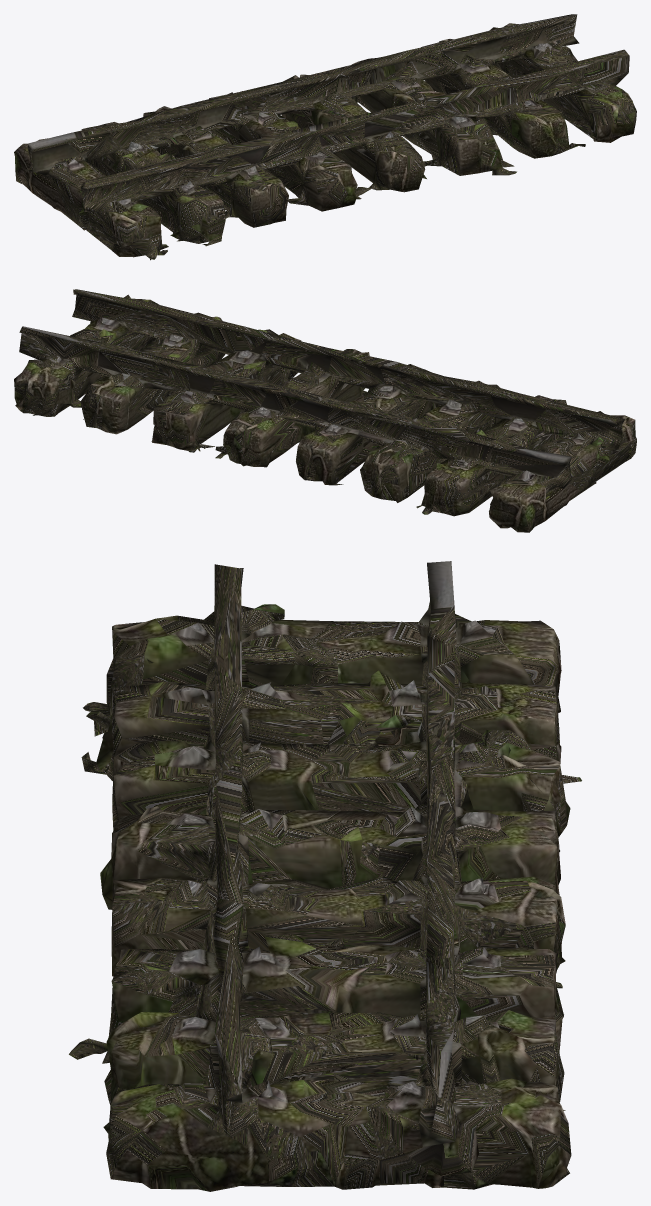
Rendered from railroad_tracks_01.glb.
3 renders of one model, top to bottom at view 1: azimuth 30°, elevation 25°; view 2: azimuth 150°, elevation 25°; view 3: azimuth 270°, elevation 25°, orthographic. The views are drawn at different scales.
Visible parts, largest first — view 1: tripo_node_6ac8c12e-6bca-4c4d-ab10-58ae13c4cb51; view 2: tripo_node_6ac8c12e-6bca-4c4d-ab10-58ae13c4cb51; view 3: tripo_node_6ac8c12e-6bca-4c4d-ab10-58ae13c4cb51.
Boxes of the visible parts, x1,y1,x2,y2 form: tripo_node_6ac8c12e-6bca-4c4d-ab10-58ae13c4cb51: (14, 14, 636, 260); tripo_node_6ac8c12e-6bca-4c4d-ab10-58ae13c4cb51: (14, 289, 636, 532); tripo_node_6ac8c12e-6bca-4c4d-ab10-58ae13c4cb51: (69, 561, 581, 1191).
Bounding box in the file's own units: 0.9844 × 0.1068 × 0.3997.
1 material, 1 textured.
